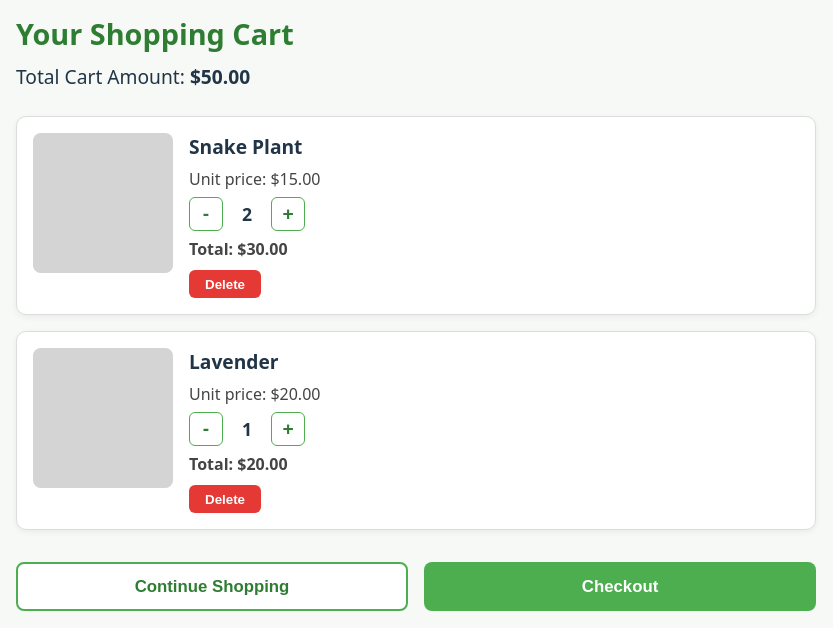
it: CartItem › increments quantity and updates subtotal and total
The width and height of the screenshot is (833, 628).
Click the button named "Increase quantity of Snake Plant" at (288, 214), box [271,197,305,231]
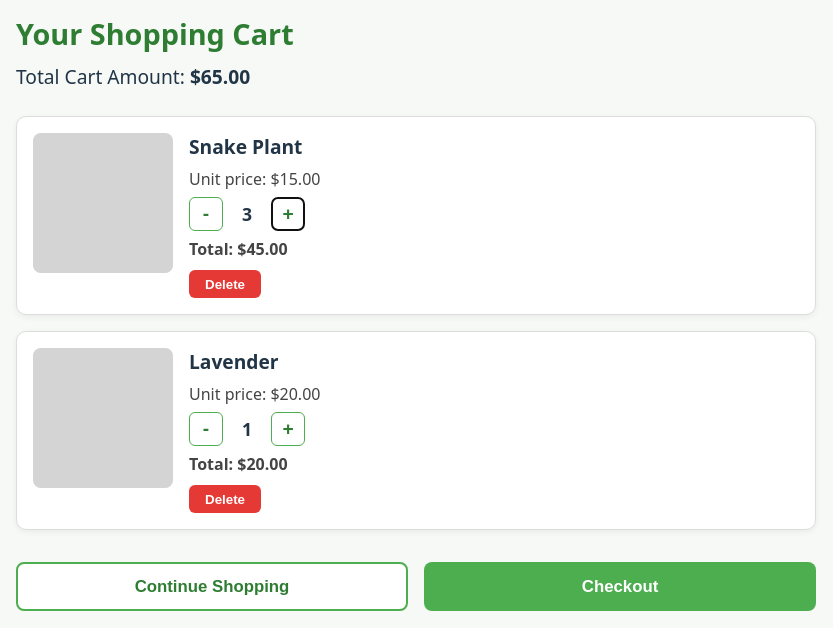
Check: the text with test id "quantity-snake-plant" reads "3", box [242,202,252,226]
Check: the text with test id "subtotal-snake-plant" shows "$45.00", box [237,238,288,260]
Check: the element with test id "cart-total" shows "$65.00", box [190,63,250,90]
